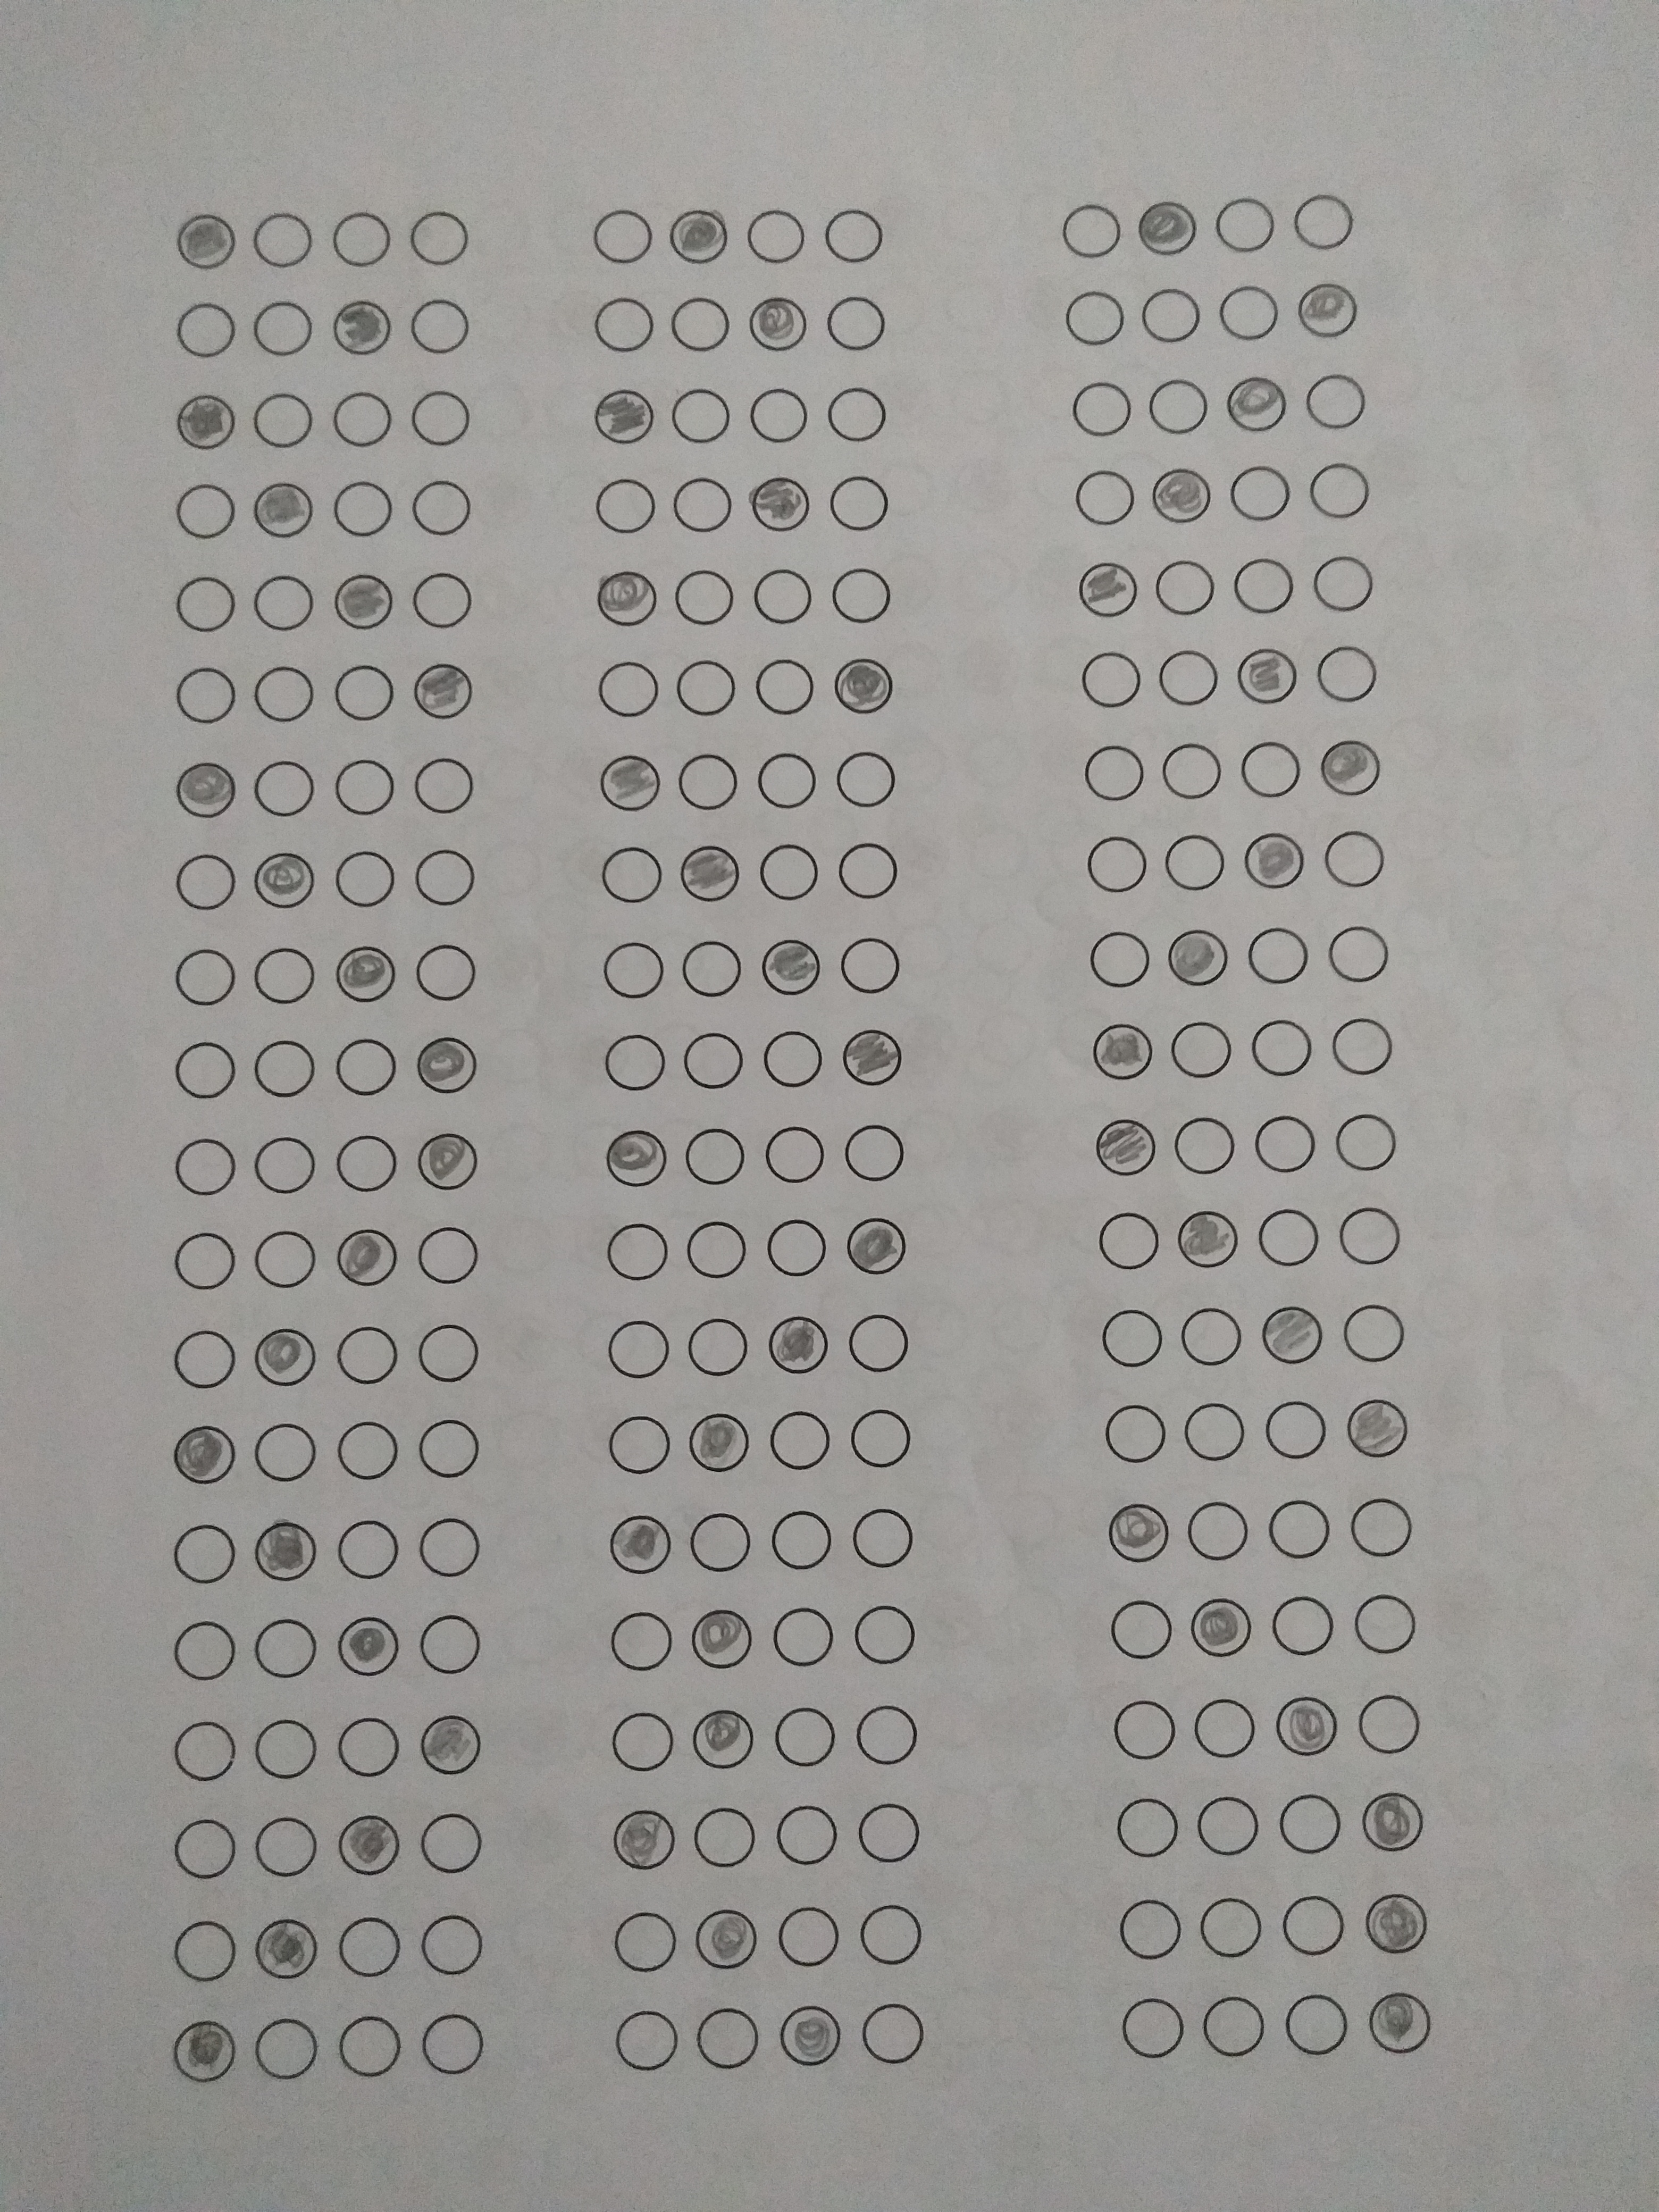not-c: (1267, 1590, 1340, 1662), (772, 1902, 847, 1972), (1258, 1395, 1333, 1465), (1244, 1014, 1321, 1082), (1115, 1994, 1192, 2062), (608, 1907, 681, 1977), (852, 1900, 925, 1970), (1276, 1888, 1349, 1958), (1279, 1987, 1352, 2057), (1162, 1015, 1237, 1083), (1351, 1691, 1425, 1759), (1190, 1791, 1265, 1858), (1115, 1895, 1190, 1963), (251, 2012, 321, 2083), (821, 383, 892, 453), (413, 1416, 486, 1484), (1272, 1791, 1345, 1858), (1101, 1399, 1171, 1468), (335, 2013, 406, 2081), (690, 1804, 762, 1872), (1324, 1014, 1396, 1082), (329, 662, 403, 728), (1176, 1399, 1249, 1465), (1176, 1303, 1251, 1367), (336, 1416, 404, 1486), (251, 1813, 321, 1881), (599, 1031, 669, 1099), (758, 1026, 826, 1096), (838, 1118, 908, 1186), (857, 2000, 927, 2067), (1136, 280, 1206, 348), (1188, 1696, 1258, 1764), (1114, 1794, 1182, 1864), (335, 1912, 406, 1979), (685, 1510, 756, 1576), (765, 1508, 836, 1575), (1159, 827, 1230, 894), (1323, 918, 1394, 984), (1249, 1113, 1321, 1179), (1342, 1494, 1413, 1561), (610, 2006, 683, 2071), (418, 1909, 486, 1977), (847, 1406, 915, 1474), (854, 1703, 922, 1771), (1340, 1299, 1408, 1367), (1183, 1496, 1251, 1564), (329, 846, 399, 913), (171, 1521, 240, 1587), (333, 1517, 403, 1583), (336, 1710, 406, 1777), (596, 658, 666, 725), (835, 932, 904, 998), (680, 1029, 749, 1096), (769, 1604, 838, 1670), (1241, 923, 1310, 989), (1171, 1115, 1241, 1181), (1335, 1202, 1405, 1268), (1253, 1204, 1323, 1270), (603, 1414, 674, 1479), (774, 1803, 845, 1867), (1155, 738, 1227, 803), (1094, 1207, 1166, 1271), (1223, 462, 1297, 524), (251, 1421, 319, 1487), (610, 1608, 678, 1674), (857, 1799, 924, 1867), (694, 2003, 762, 2069), (1229, 552, 1297, 618), (1351, 1590, 1419, 1656), (169, 946, 239, 1010), (169, 1327, 239, 1392), (418, 2012, 488, 2076), (596, 845, 666, 909), (676, 935, 746, 1000), (680, 1125, 749, 1190), (603, 1219, 673, 1284), (685, 1315, 755, 1379), (1152, 644, 1222, 709), (1082, 831, 1152, 895), (1319, 826, 1389, 890), (1265, 1498, 1335, 1562), (1108, 1698, 1178, 1763), (1195, 1893, 1265, 1958), (603, 1318, 674, 1381), (1303, 549, 1375, 611), (1073, 648, 1145, 711), (1084, 930, 1157, 991), (335, 1324, 401, 1390), (173, 1716, 239, 1782), (173, 1918, 239, 1984), (823, 291, 889, 357), (845, 1312, 911, 1378), (849, 1507, 915, 1573), (249, 571, 317, 636), (406, 568, 474, 632), (249, 1038, 317, 1103), (416, 1813, 484, 1878), (767, 1409, 835, 1474), (1330, 1111, 1398, 1176), (1100, 1305, 1168, 1369), (1108, 1595, 1176, 1660), (1199, 1993, 1267, 2057), (249, 759, 319, 822), (251, 1134, 321, 1197), (415, 1517, 484, 1580), (608, 1712, 678, 1775), (1060, 286, 1129, 348), (1079, 742, 1148, 805), (246, 390, 317, 451), (1300, 369, 1371, 430), (416, 1322, 483, 1386), (416, 1611, 483, 1676), (173, 1817, 239, 1881), (667, 385, 734, 449), (171, 1040, 239, 1103), (251, 1228, 319, 1291), (770, 1707, 838, 1770), (1215, 280, 1283, 343), (1310, 643, 1378, 705), (833, 749, 903, 810), (1209, 197, 1279, 258), (329, 387, 394, 451), (408, 477, 474, 540), (173, 665, 239, 728), (333, 756, 399, 819), (333, 1132, 399, 1195), (171, 1620, 237, 1683), (253, 1616, 319, 1679), (592, 294, 659, 357), (673, 658, 739, 721), (683, 1219, 749, 1282), (1060, 200, 1126, 263), (755, 841, 823, 902), (599, 939, 667, 1000), (1066, 378, 1134, 439), (1143, 376, 1211, 437), (1150, 556, 1218, 617), (171, 852, 240, 911), (591, 475, 660, 535), (411, 845, 474, 909), (335, 1036, 399, 1099), (751, 566, 816, 629), (1293, 193, 1356, 258), (251, 664, 317, 725), (253, 946, 319, 1007), (173, 1230, 239, 1291), (746, 385, 812, 446), (1239, 738, 1305, 799), (247, 209, 315, 268), (171, 481, 239, 540), (1072, 467, 1140, 526), (823, 206, 885, 268), (669, 475, 732, 538), (671, 566, 734, 629), (852, 1602, 915, 1665), (1307, 460, 1370, 523), (173, 298, 237, 359), (329, 481, 394, 542), (416, 1224, 481, 1285), (755, 751, 819, 812), (835, 840, 899, 900), (762, 1123, 826, 1184), (765, 1217, 829, 1278), (406, 388, 472, 448), (411, 942, 477, 1001), (251, 296, 314, 357), (173, 575, 235, 636), (826, 474, 889, 535), (254, 1719, 319, 1778), (413, 756, 474, 817), (331, 209, 394, 268), (410, 209, 472, 268), (174, 1137, 237, 1197), (676, 752, 739, 812), (589, 207, 653, 265), (669, 296, 734, 354), (828, 568, 892, 625), (756, 658, 816, 719), (410, 300, 472, 357), (744, 207, 805, 263)
taken-c: (167, 2019, 237, 2087), (777, 2000, 845, 2069), (251, 1918, 321, 1984), (1344, 1395, 1412, 1461), (1370, 1987, 1434, 2057), (335, 1811, 401, 1878), (251, 1519, 319, 1583), (688, 1707, 756, 1771), (415, 1033, 481, 1097), (415, 1127, 479, 1193), (335, 1613, 401, 1677), (1363, 1892, 1429, 1956), (758, 934, 823, 998), (690, 1608, 755, 1672), (1361, 1791, 1425, 1855), (1188, 1595, 1253, 1660), (1107, 1500, 1171, 1564), (594, 566, 660, 629), (169, 1423, 235, 1486), (418, 1712, 484, 1775), (608, 1514, 674, 1576), (685, 1411, 751, 1474), (1091, 1116, 1159, 1177), (253, 850, 317, 913), (598, 751, 662, 813), (767, 1313, 831, 1376), (1176, 1209, 1239, 1273), (253, 1325, 319, 1386), (838, 1026, 904, 1087), (694, 1909, 760, 1970), (411, 658, 474, 721), (174, 758, 237, 820), (667, 206, 730, 268), (833, 655, 896, 718), (678, 841, 741, 904), (613, 1810, 676, 1872), (1091, 1021, 1154, 1083), (173, 209, 237, 270), (335, 941, 396, 1005), (843, 1216, 908, 1277), (605, 1127, 669, 1188), (1297, 279, 1361, 340), (591, 387, 657, 446), (335, 1226, 401, 1285), (1166, 927, 1232, 986), (253, 477, 314, 540), (749, 293, 812, 354), (749, 474, 812, 535), (1277, 1695, 1338, 1757), (1077, 557, 1140, 618), (1136, 199, 1199, 260), (329, 298, 394, 357), (329, 571, 394, 631), (1260, 1306, 1324, 1366), (1150, 465, 1211, 526), (1243, 833, 1305, 892), (1321, 737, 1384, 796), (173, 394, 237, 451), (1223, 376, 1288, 434), (1239, 644, 1300, 704)
